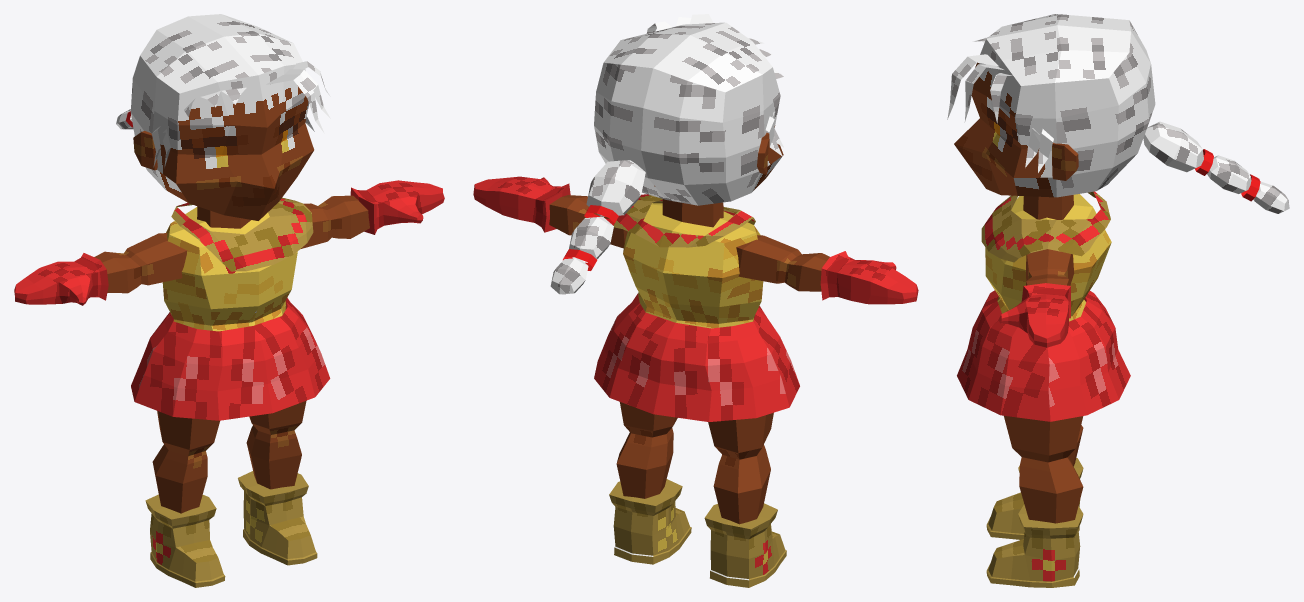
Rendered from flor.glb.
3 renders of one model, left to right at view 1: azimuth 30°, elevation 25°; view 2: azimuth 150°, elevation 25°; view 3: azimuth 270°, elevation 25°, orthographic. The views are drawn at different scales.
Visible parts, largest first — view 1: Cube, Cube.003, Circle, Cube.001, Cube.005, Cube.004, Plane.001, Plane, Cube.006, Cube.002; view 2: Cube, Cube.003, Circle, Cube.001, Cube.005, Cube.004, Plane.001, Cube.008, Cube.009, Cube.002, Cube.010, Plane; view 3: Cube, Circle, Cube.003, Cube.001, Plane.001, Cube.005, Cube.008, Plane, Cube.004, Cube.009, Cube.002, Cube.006 (+2 smaller).
Part boxes in pixels (left/top/right/bottom): Cube: left=130, top=14, right=314, bottom=220; Cube.003: left=152, top=207, right=306, bottom=513; Circle: left=131, top=298, right=330, bottom=420; Cube.001: left=145, top=471, right=317, bottom=587; Cube.005: left=14, top=180, right=444, bottom=305; Cube.004: left=94, top=195, right=369, bottom=293; Plane.001: left=171, top=197, right=313, bottom=271; Plane: left=184, top=61, right=330, bottom=133; Cube.006: left=133, top=131, right=157, bottom=170; Cube.002: left=197, top=206, right=250, bottom=228; Cube: left=594, top=22, right=783, bottom=205; Cube.003: left=616, top=203, right=773, bottom=524; Circle: left=594, top=293, right=799, bottom=421; Cube.001: left=609, top=479, right=786, bottom=587; Cube.005: left=473, top=176, right=918, bottom=304; Cube.004: left=549, top=195, right=829, bottom=291; Plane.001: left=608, top=194, right=755, bottom=247; Cube.008: left=586, top=160, right=645, bottom=216; Cube.009: left=569, top=217, right=613, bottom=259; Cube.002: left=662, top=199, right=723, bottom=227; Cube.010: left=550, top=258, right=588, bottom=294; Plane: left=647, top=14, right=783, bottom=78; Cube: left=954, top=14, right=1155, bottom=197; Circle: left=957, top=290, right=1130, bottom=421; Cube.003: left=985, top=194, right=1111, bottom=523; Cube.001: left=986, top=458, right=1083, bottom=587; Plane.001: left=981, top=191, right=1110, bottom=262; Cube.005: left=998, top=283, right=1070, bottom=347; Cube.008: left=1143, top=121, right=1203, bottom=172; Plane: left=947, top=37, right=1013, bottom=123; Cube.004: left=1026, top=249, right=1074, bottom=285; Cube.009: left=1207, top=155, right=1251, bottom=193; Cube.002: left=1023, top=195, right=1073, bottom=219; Cube.006: left=1052, top=142, right=1078, bottom=180.
Size of the model in its own units: 8.54 by 9.78 by 5.75.
Materials: 1 (1 with a texture image).
